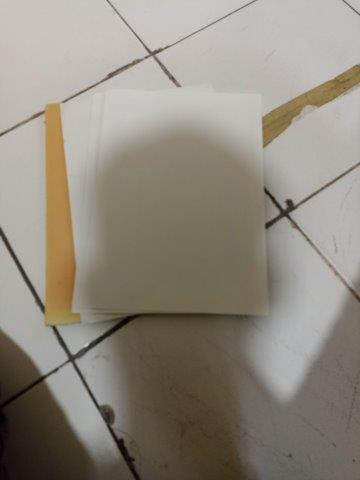kertas: (45, 84, 269, 326)
